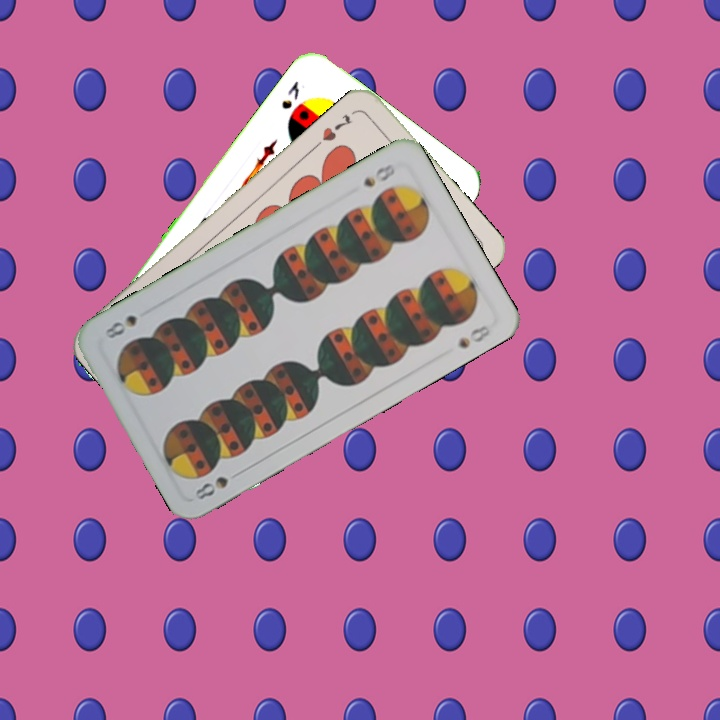H7: (318, 110, 355, 144)
S8: (190, 466, 245, 503), (359, 159, 398, 190)
SK: (277, 77, 302, 112)
